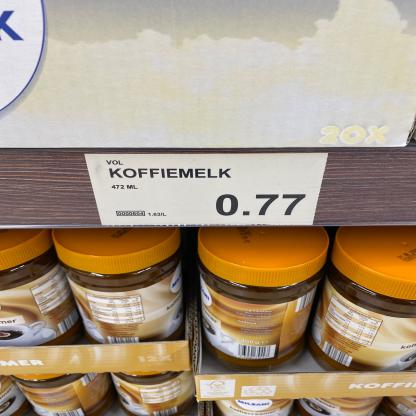prtg: (84, 153, 330, 227)
